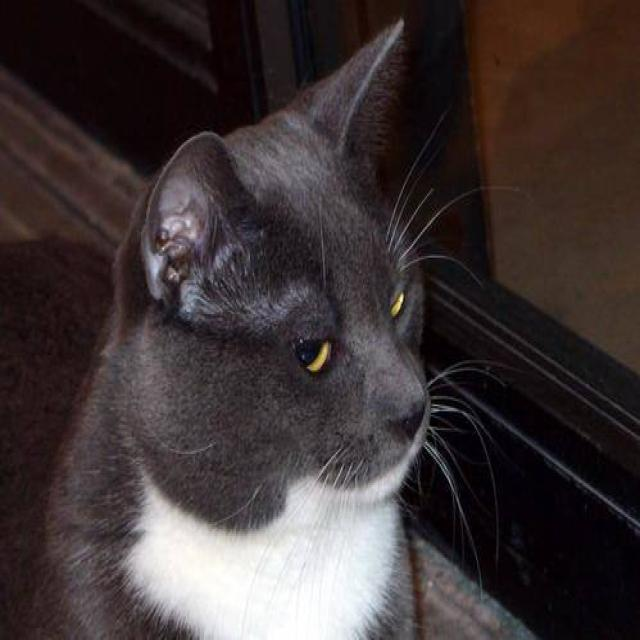cat: (0, 14, 509, 638)
